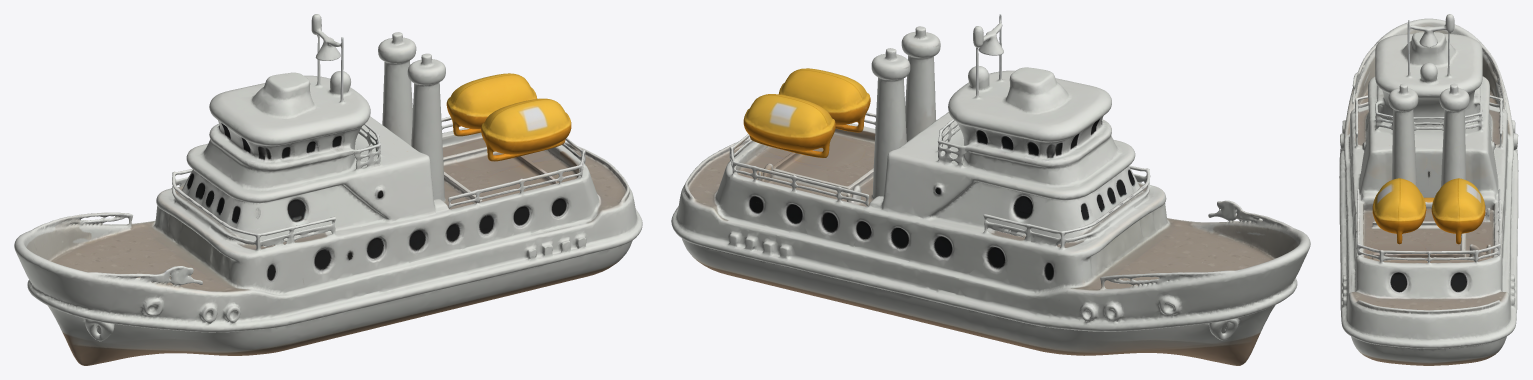
The model's file is Meshy_AI_Ivory_Voyager_1019163912_texture.glb.
The picture shows the model from 3 angles, left to right: view 1: azimuth 30°, elevation 25°; view 2: azimuth 150°, elevation 25°; view 3: azimuth 270°, elevation 25°; orthographic projection. The views are drawn at different scales.
Size of the model in its own units: 1.9 by 0.8614 by 0.5689.
Materials: 1 (1 with a texture image).
